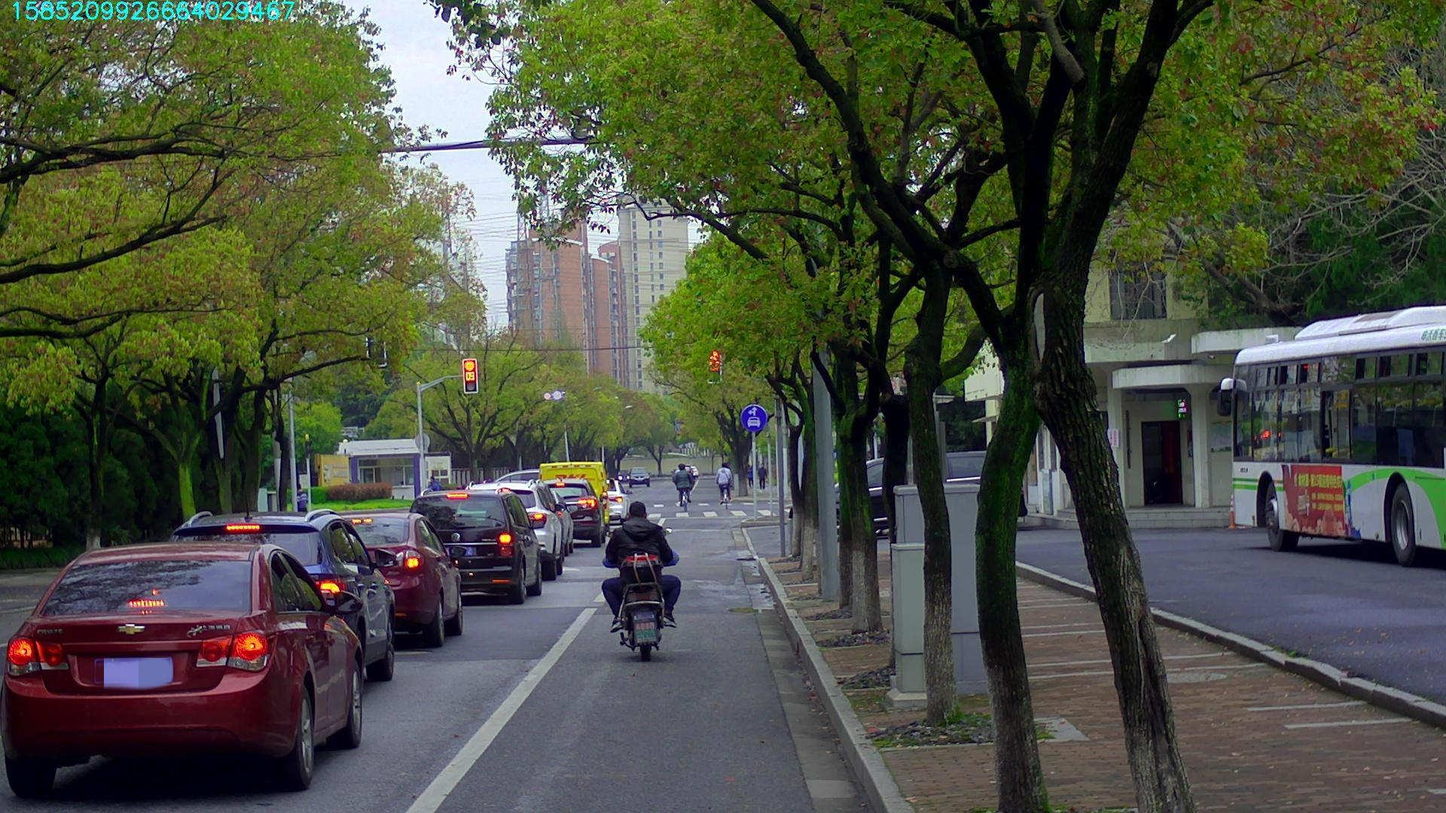red: (706, 346, 721, 382), (462, 358, 477, 392)
